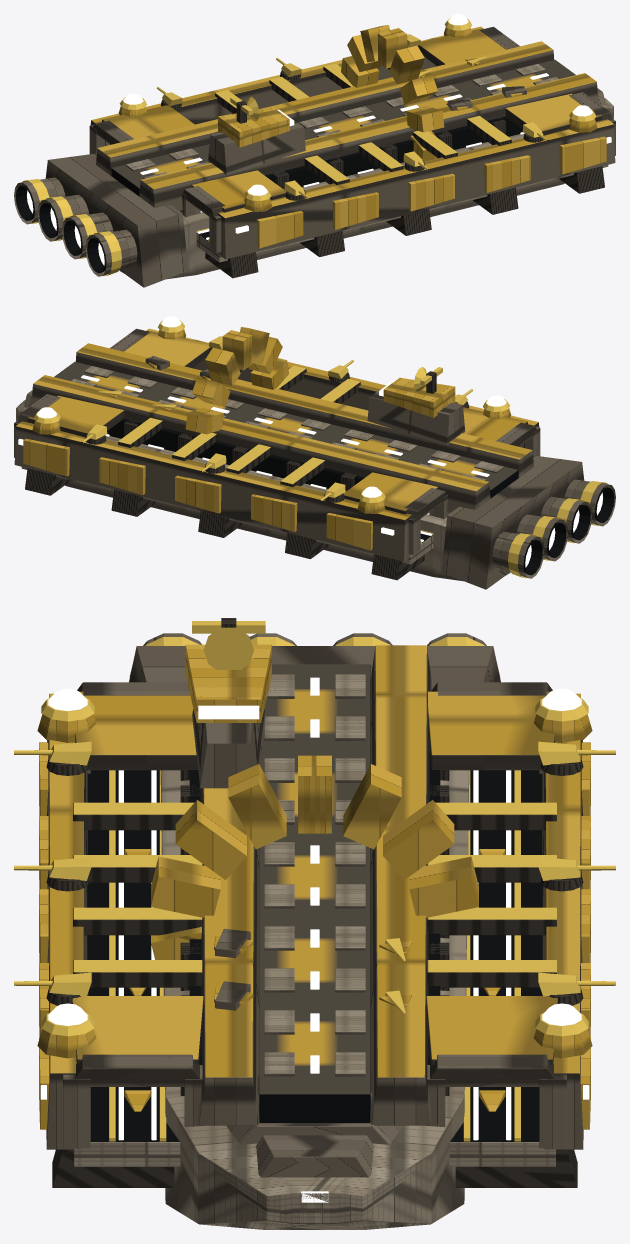
The model's file is carrier.glb.
The picture shows the model from 3 angles, top to bottom: view 1: azimuth 30°, elevation 25°; view 2: azimuth 150°, elevation 25°; view 3: azimuth 270°, elevation 25°; orthographic projection. The views are drawn at different scales.
Parts seen in each view (by area): view 1: hull_body, engine_block, sensor_island, shield_domes, weapon_turrets; view 2: hull_body, engine_block, sensor_island, shield_domes, weapon_turrets; view 3: hull_body, sensor_island, shield_domes, engine_block, weapon_turrets.
Part boxes in pixels (bbox=[...]): hull_body: bbox=[89, 25, 615, 279]; engine_block: bbox=[14, 153, 188, 287]; sensor_island: bbox=[208, 96, 305, 175]; shield_domes: bbox=[119, 14, 597, 211]; weapon_turrets: bbox=[157, 34, 548, 200]; hull_body: bbox=[14, 327, 540, 581]; engine_block: bbox=[441, 455, 615, 589]; sensor_island: bbox=[367, 367, 465, 445]; shield_domes: bbox=[32, 316, 510, 513]; weapon_turrets: bbox=[81, 336, 472, 502]; hull_body: bbox=[39, 645, 590, 1229]; sensor_island: bbox=[185, 618, 271, 788]; shield_domes: bbox=[37, 688, 592, 1058]; engine_block: bbox=[129, 633, 500, 689]; weapon_turrets: bbox=[14, 741, 615, 1005].
Size of the model in its own units: 55 by 15.39 by 26.66.
Materials: 1 (1 with a texture image).
